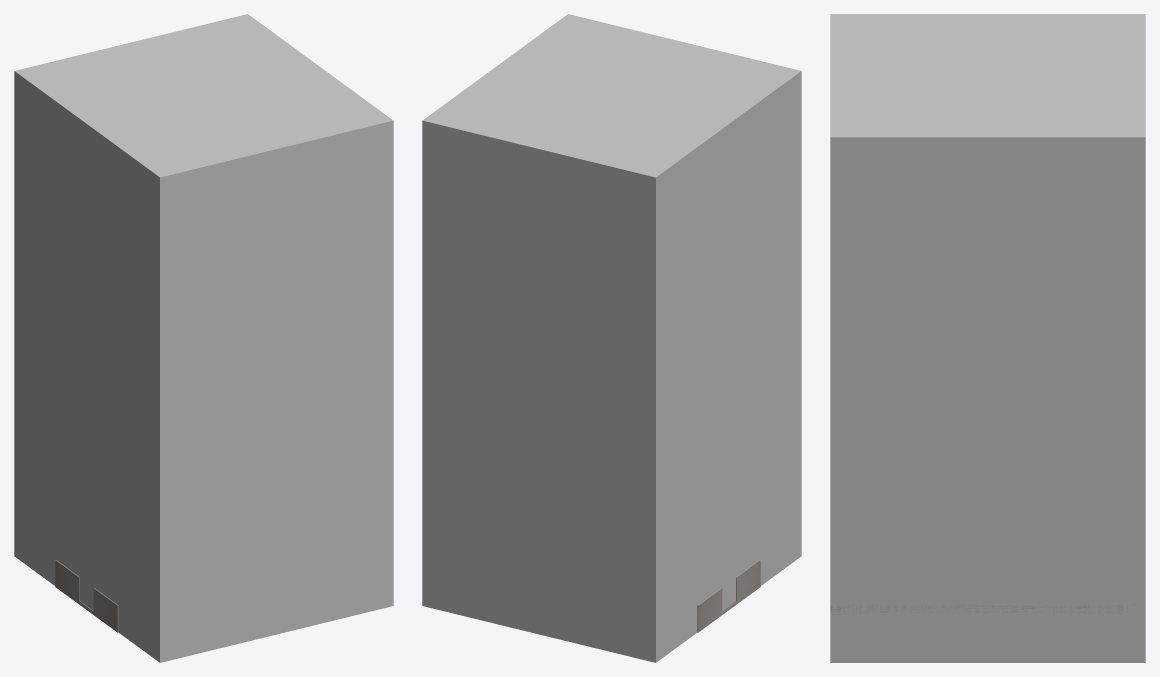
3 renders of one model, left to right at view 1: azimuth 30°, elevation 25°; view 2: azimuth 150°, elevation 25°; view 3: azimuth 270°, elevation 25°, orthographic. The views are drawn at different scales.
Visible parts, largest first — view 1: SM_TV_01_ConvexHulls, SM_TV_01; view 2: SM_TV_01_ConvexHulls, SM_TV_01; view 3: SM_TV_01_ConvexHulls.
Boxes of the visible parts, box(x1,y1,x2,y2) form: SM_TV_01_ConvexHulls: box(14, 14, 393, 662); SM_TV_01: box(55, 560, 118, 632); SM_TV_01_ConvexHulls: box(422, 14, 801, 662); SM_TV_01: box(697, 560, 760, 632); SM_TV_01_ConvexHulls: box(830, 14, 1145, 662).
Size of the model in its own units: 91 by 98 by 180.
2 materials, 1 textured.
